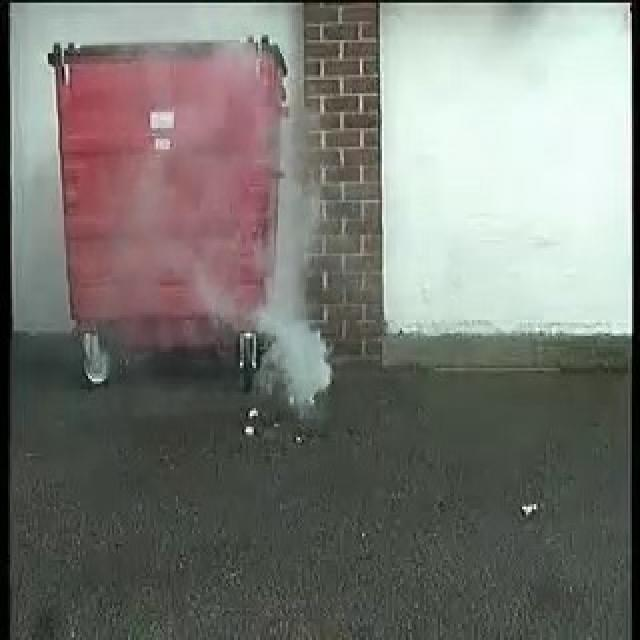smoke: (238, 192, 330, 401)
